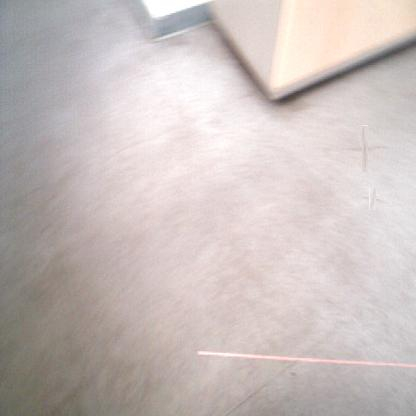mark: (352, 135, 379, 162), (366, 192, 380, 207), (289, 369, 297, 377)
